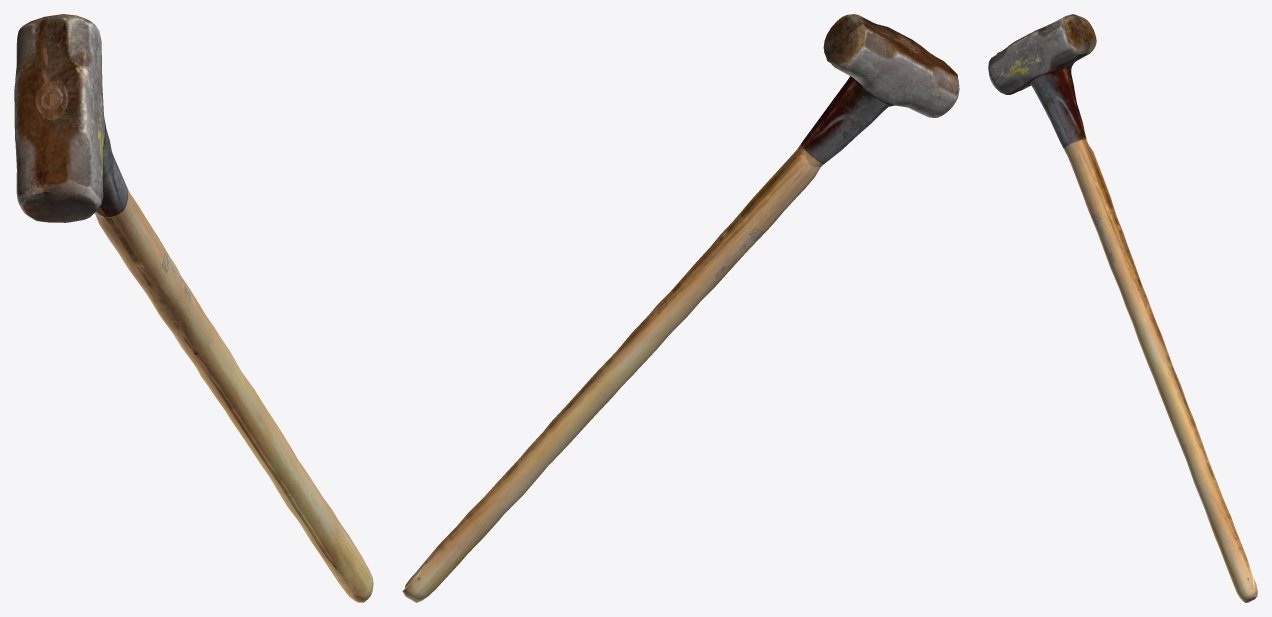
Rendered from rusty_sledgehammer_scan.glb.
3 views of the same model, side by side, from view 1: azimuth 30°, elevation 25°; view 2: azimuth 150°, elevation 25°; view 3: azimuth 270°, elevation 25° (orthographic). The views are drawn at different scales.
Parts seen in each view (by area): view 1: rusty_sledgehammer_scan; view 2: rusty_sledgehammer_scan; view 3: rusty_sledgehammer_scan.
Part boxes in pixels (x1,y1,x2,y2): rusty_sledgehammer_scan: (14, 14, 373, 602); rusty_sledgehammer_scan: (402, 14, 959, 602); rusty_sledgehammer_scan: (988, 14, 1257, 602).
Size of what is drawn, in the model's own units: 0.6501 by 0.9001 by 0.4782.
1 material, 1 textured.
